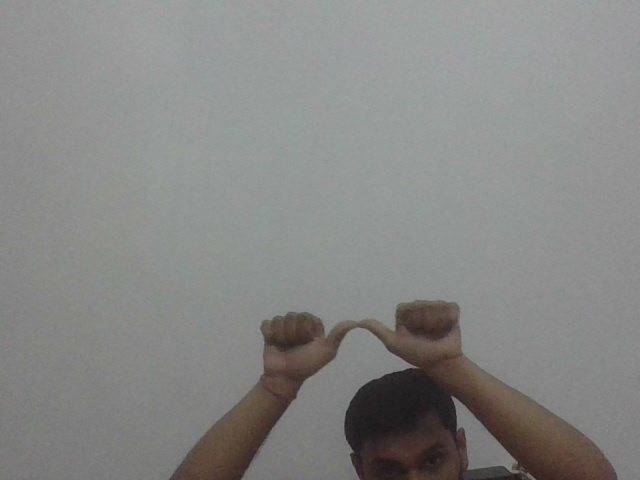A: (242, 293, 479, 363)
